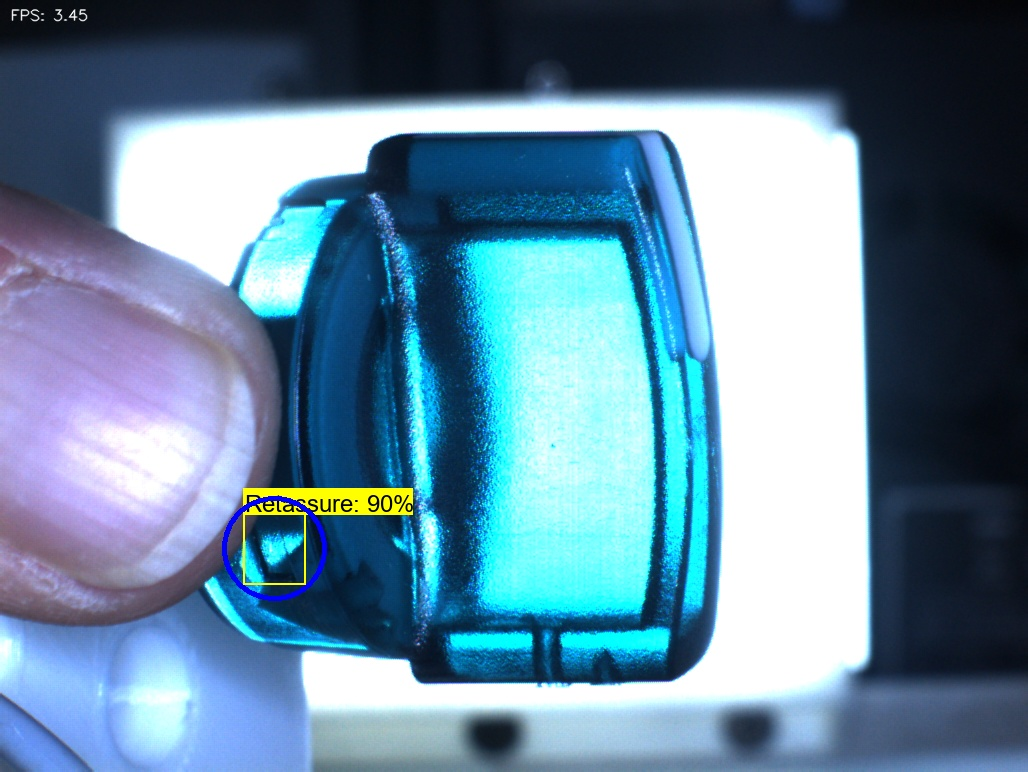Bulle: (495, 588, 594, 699)
